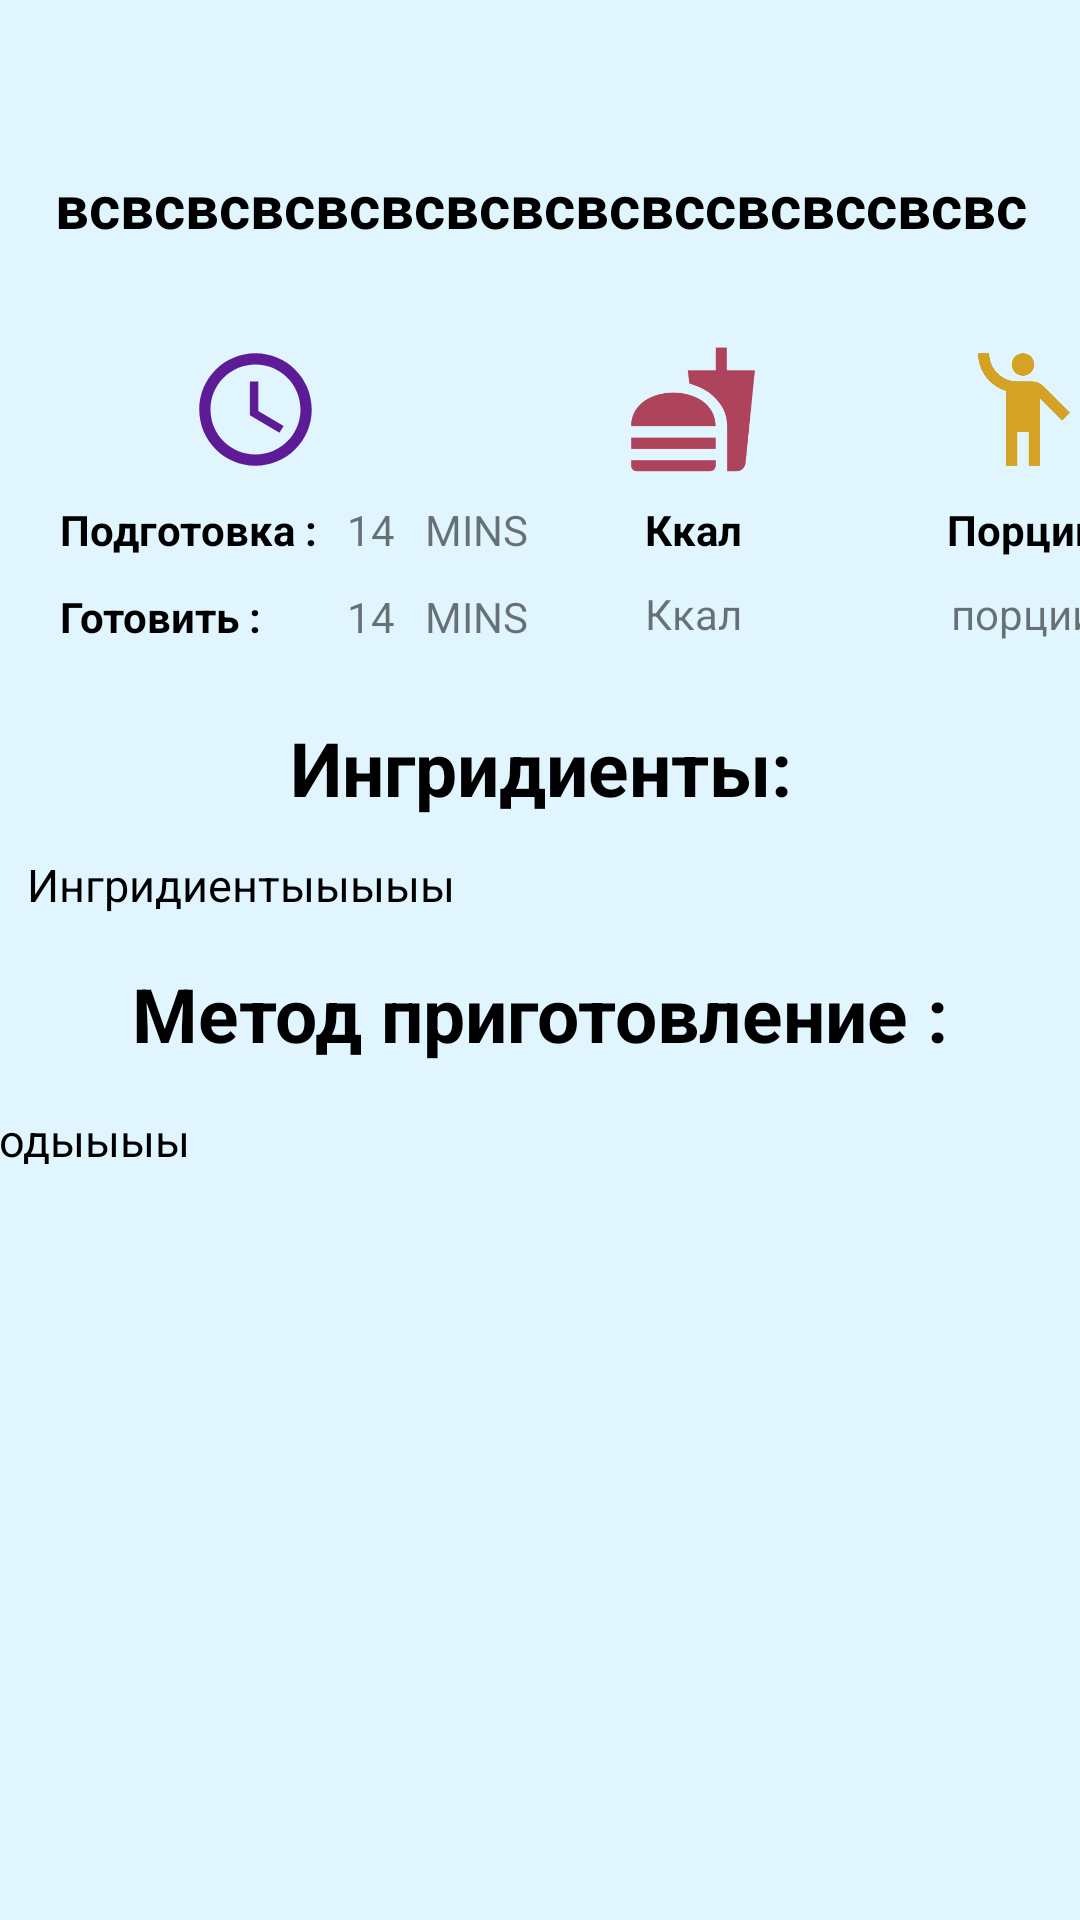

Screen size 1080px x 1920px. Icon name, then its box in pixels as (x1, y1, x2, y2):
fastfood: (631, 347, 755, 472)
schedule: (199, 353, 312, 466)
